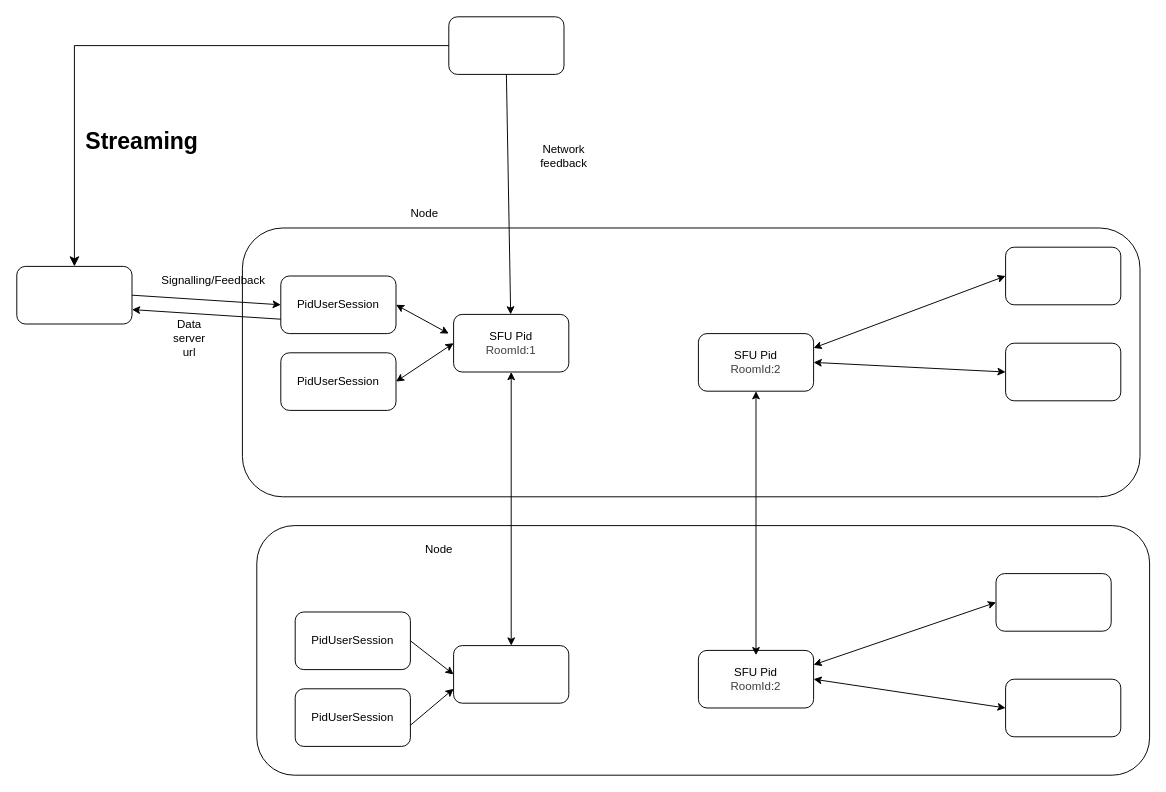
Some shapes in this 1166 by 792 pixel diagram are drawn without their labels. The shapes that lost their labels are listed below. From the top down, each one's box as (x1, y1, x2, y2) in pixels, then its label:
(448, 16, 564, 74): Rust Data Server
(16, 265, 132, 324): User1
(453, 645, 569, 703): SFU Pid
